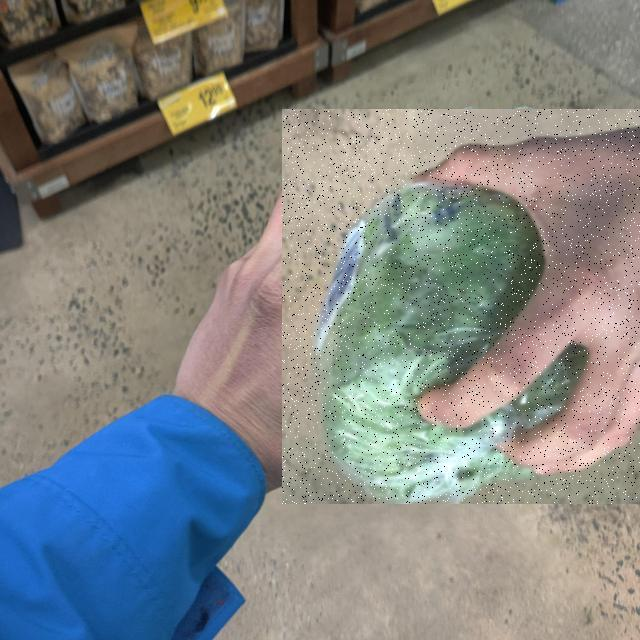Cabbage: (282, 109, 640, 504)
